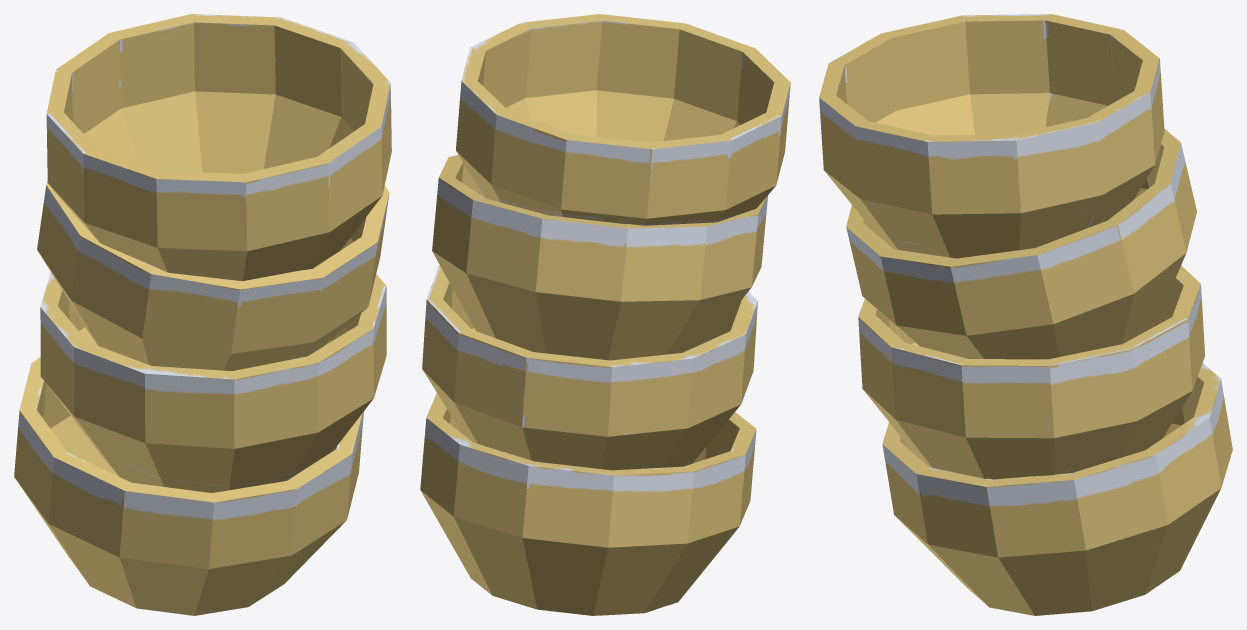
Rendered from pilebole.glb.
3 views of the same model, side by side, from view 1: azimuth 30°, elevation 25°; view 2: azimuth 150°, elevation 25°; view 3: azimuth 270°, elevation 25° (orthographic). The views are drawn at different scales.
Visible parts, largest first — view 1: node_id3; view 2: node_id3; view 3: node_id3.
Boxes of the visible parts, x1,y1,x2,y2 form: node_id3: (14,14,391,615); node_id3: (420,14,790,615); node_id3: (819,14,1232,615).
Bounding box in the file's own units: 0.3306 × 0.5173 × 0.378.
1 material, 1 textured.
